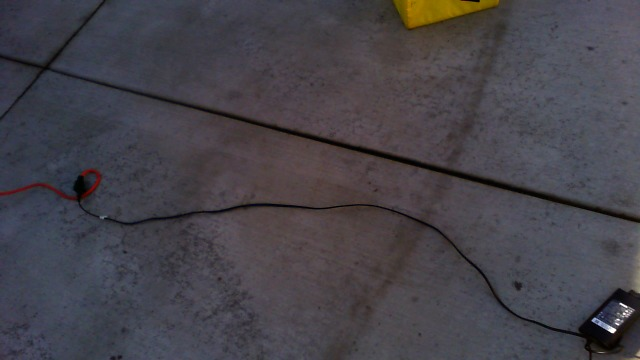cube: (390, 1, 501, 30)
